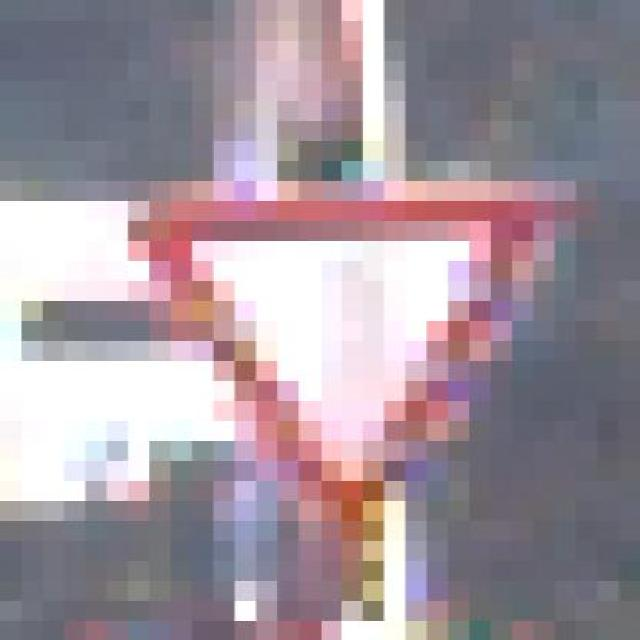Give Way: (85, 160, 598, 540)
